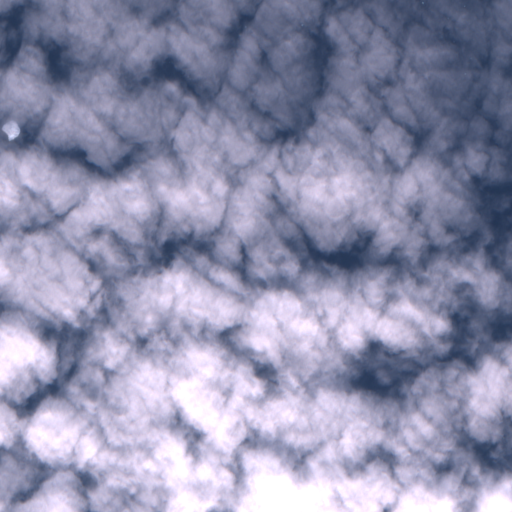Iceberg: (2, 121, 19, 140), (422, 2, 423, 3)
